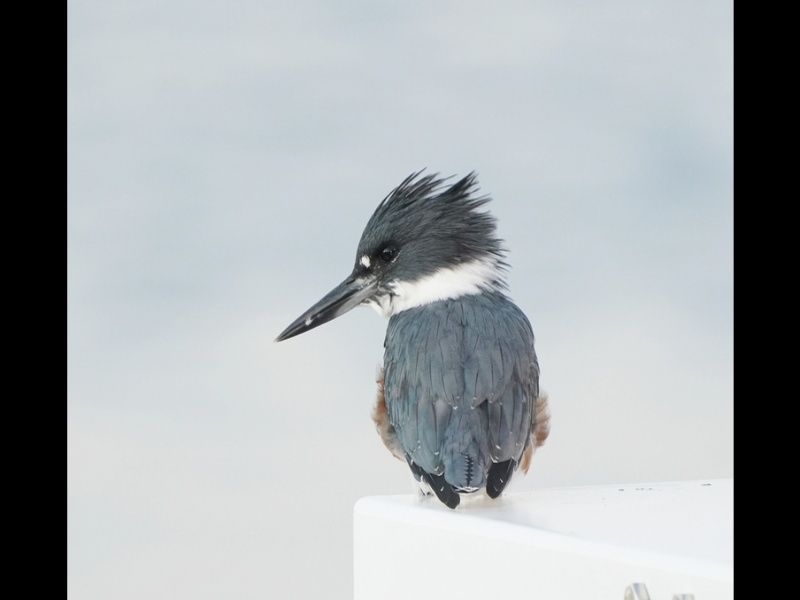kingfisher: (270, 167, 557, 508)
